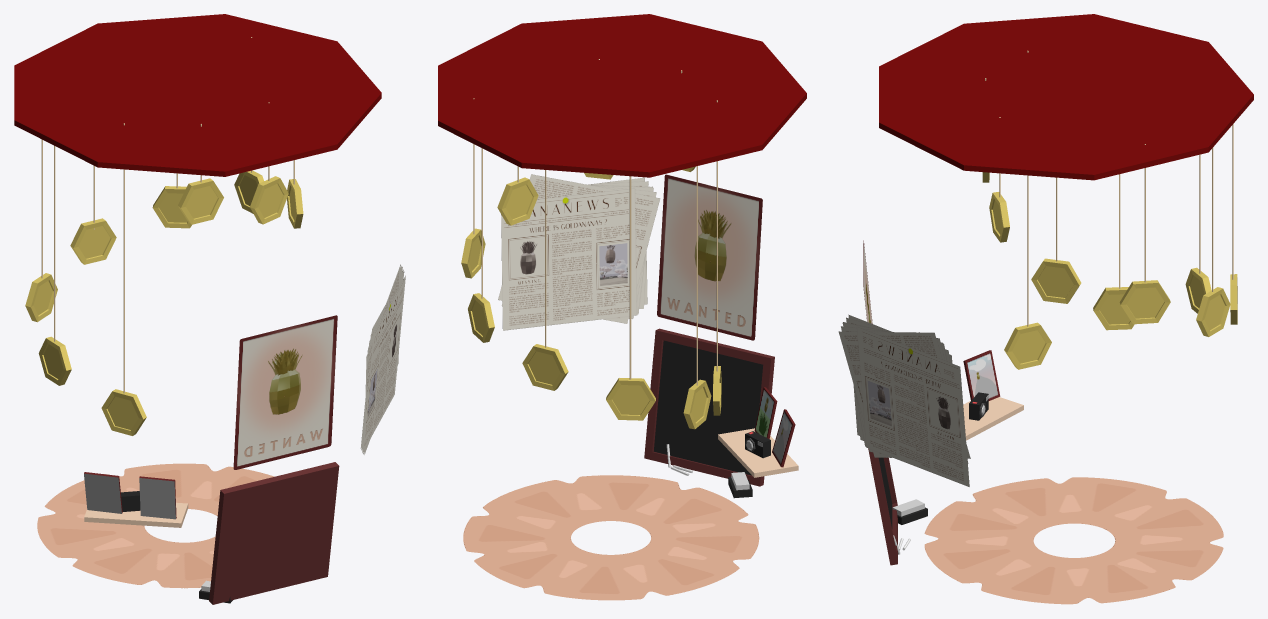
Rendered from ananasDeco.glb.
The picture shows the model from 3 angles, left to right: view 1: azimuth 30°, elevation 25°; view 2: azimuth 150°, elevation 25°; view 3: azimuth 270°, elevation 25°; orthographic projection. The views are drawn at different scales.
Parts seen in each view (by area): view 1: Cylinder.046, tableau, tapis, wanted, newspaper, Cylinder.056, Cylinder.052, coin, photo, photo2, etagere, Cylinder.055 (+5 smaller); view 2: Cylinder.046, tapis, newspaper, wanted, tableau, coin3, etagere, Cylinder.052, Cylinder.054, coin2, coin4, Cylinder.053 (+5 smaller); view 3: Cylinder.046, tapis, newspaper, tableau, Cylinder.053, Cylinder.054, coin, photo2, etagere, coin4, coin2, Cylinder.055 (+2 smaller).
Part boxes in pixels (x1,y1,x2,y2): Cylinder.046: (14,14,381,176); tableau: (209,462,339,604); tapis: (37,463,274,588); wanted: (233,315,337,469); newspaper: (360,264,405,454); Cylinder.056: (177,178,223,224); Cylinder.052: (70,218,116,264); coin: (101,389,146,435); photo: (139,476,176,519); photo2: (84,472,122,513); etagere: (84,502,188,527); Cylinder.055: (250,176,288,224); Cylinder.046: (438,14,806,177); tapis: (463,475,759,600); newspaper: (498,174,660,330); wanted: (657,174,762,340); tableau: (644,328,774,486); coin3: (606,378,655,420); etagere: (718,428,798,477); Cylinder.052: (522,344,568,390); Cylinder.054: (497,177,538,225); coin2: (683,379,711,429); coin4: (468,293,494,342); Cylinder.053: (461,228,485,278); Cylinder.046: (879,14,1253,180); tapis: (924,477,1223,604); newspaper: (838,314,970,486); tableau: (868,448,897,565); Cylinder.053: (1119,280,1170,324); Cylinder.054: (1031,258,1081,303); coin: (1004,322,1051,369); photo2: (963,350,1000,400); etagere: (963,397,1023,440); coin4: (1196,287,1230,336); coin2: (1093,287,1134,330); Cylinder.055: (989,192,1009,242).
Size of the model in its own units: 7.77 by 9.9 by 8.36.
Materials: 6 (5 with a texture image).
